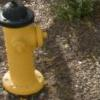Hydrant: (1, 0, 56, 100)
